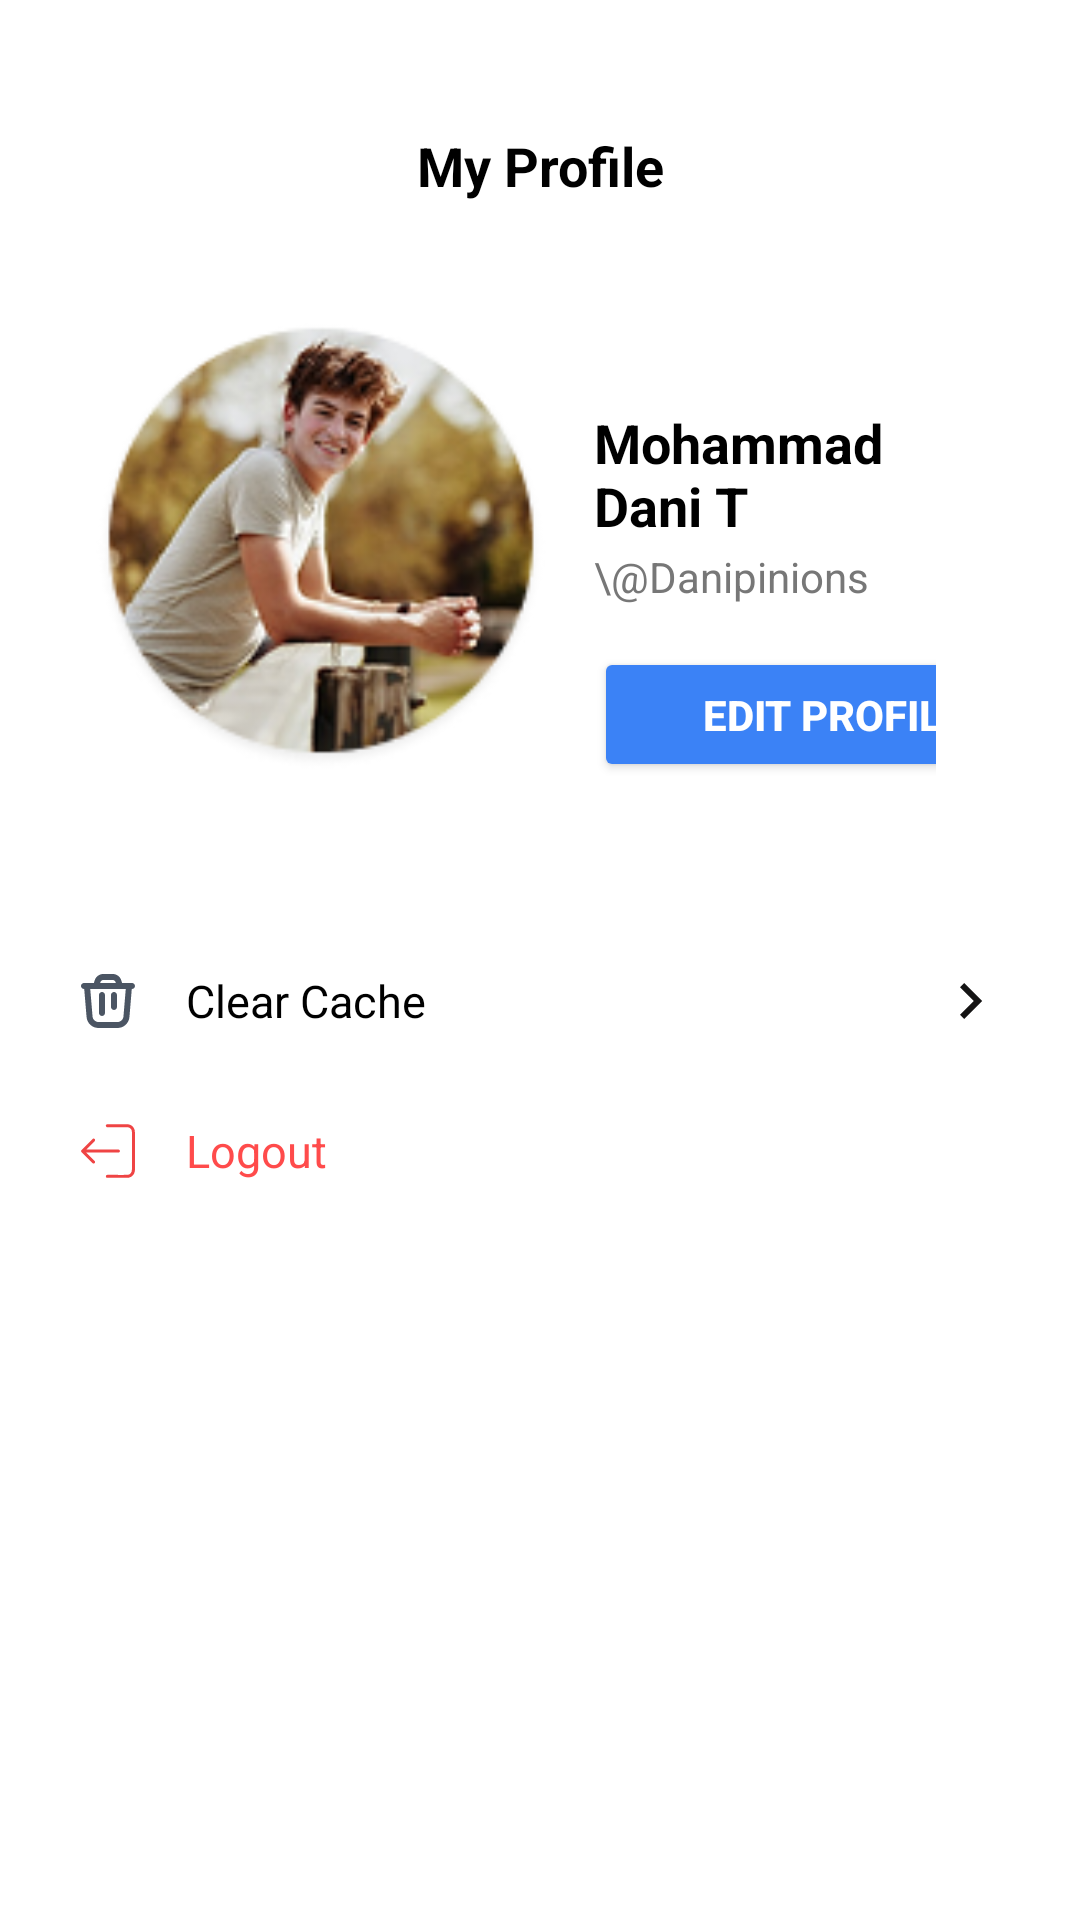

Named icons in this screenshot (1080*1920) and their centers, point (x, y):
cuida trash: point (108, 1001)
keyboard arrow right: point (971, 1001)
